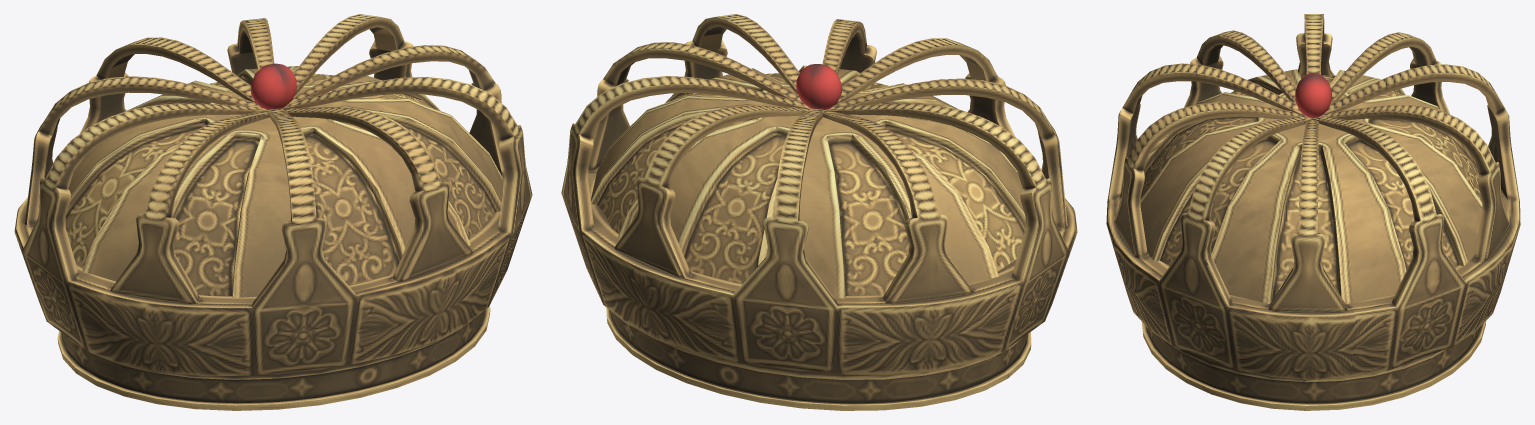
Rendered from SM_Big_Crown_Gold.fbx.
3 renders of one model, left to right at view 1: azimuth 30°, elevation 25°; view 2: azimuth 150°, elevation 25°; view 3: azimuth 270°, elevation 25°, orthographic. The views are drawn at different scales.
Parts seen in each view (by area): view 1: SM_Big_Crown_Gold_LOD0; view 2: SM_Big_Crown_Gold_LOD0; view 3: SM_Big_Crown_Gold_LOD0.
Boxes of the visible parts, x1,y1,x2,y2 form: SM_Big_Crown_Gold_LOD0: (14,14,532,410); SM_Big_Crown_Gold_LOD0: (561,14,1077,410); SM_Big_Crown_Gold_LOD0: (1106,14,1520,410).
Size of the model in its own units: 24.59 by 20.23 by 13.33.
Materials: 2 (2 with a texture image).
